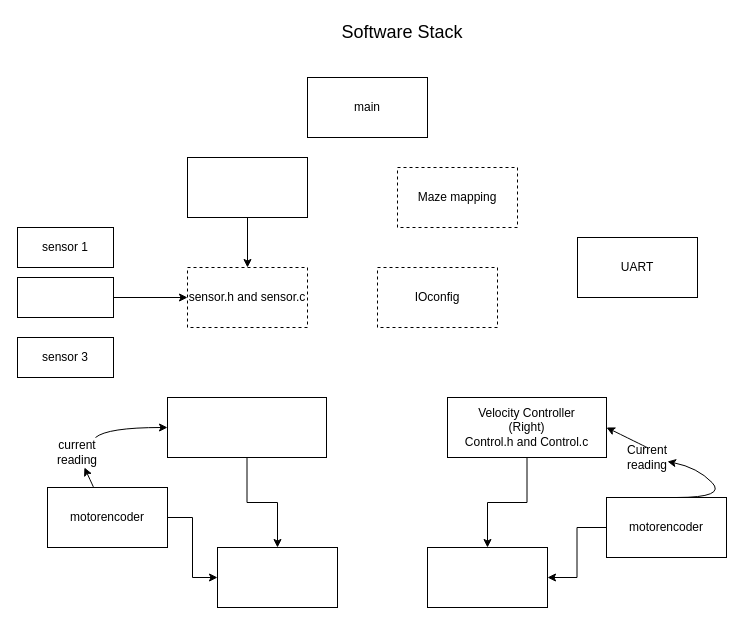
Image size: 744x625. Some labels were removed from this diagram. Each missing label, with the centre of its shape:
"ADC.h and ADC.c" belongs at (x=247, y=187).
"PWM Left" belongs at (x=277, y=577).
"PWM Right" belongs at (x=487, y=577).
"sensor 2" belongs at (x=65, y=297).
"Velocity Controller (Left) Control.h and Control.c" belongs at (x=246, y=427).
